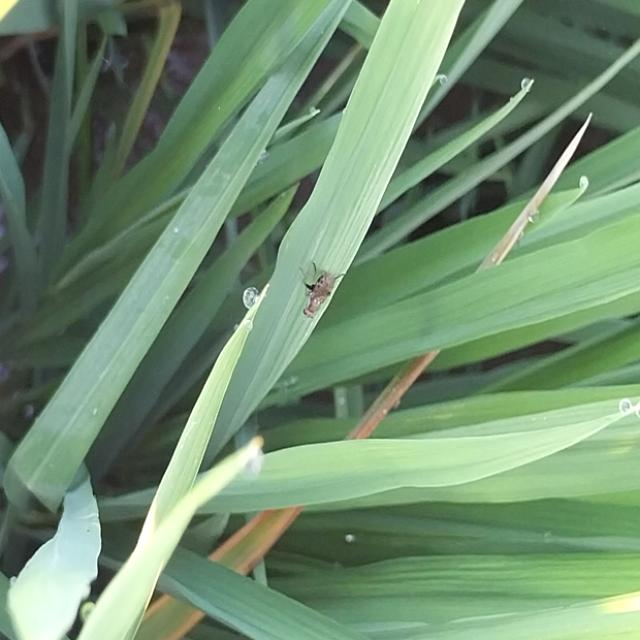healthy: (276, 250, 366, 338)
